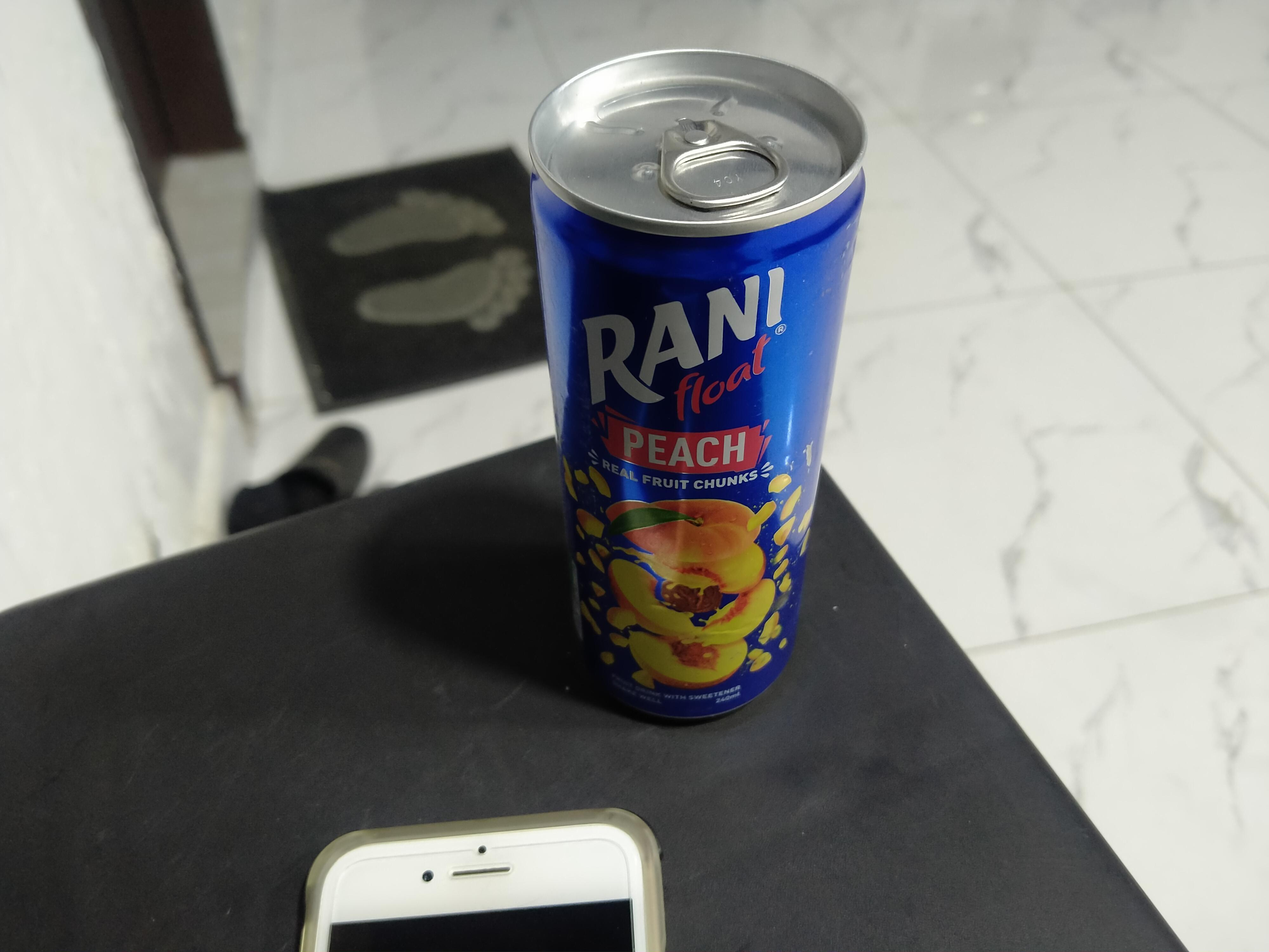tin can: (527, 43, 866, 725)
